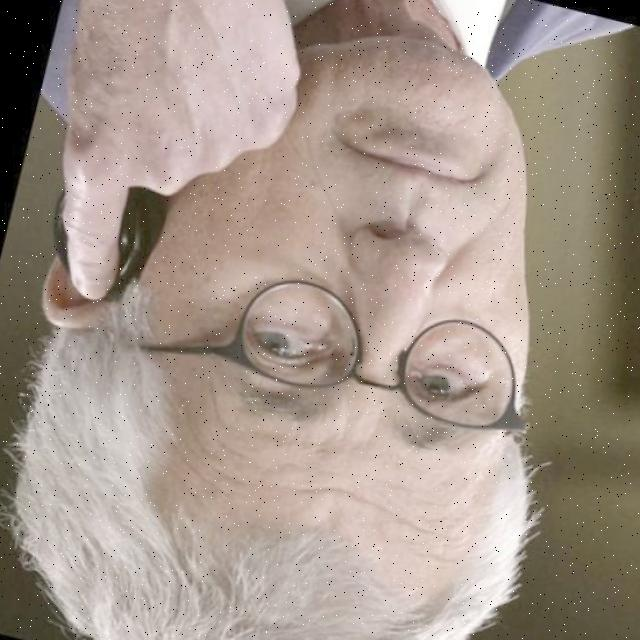puffy_eyes: (414, 323, 506, 382)
